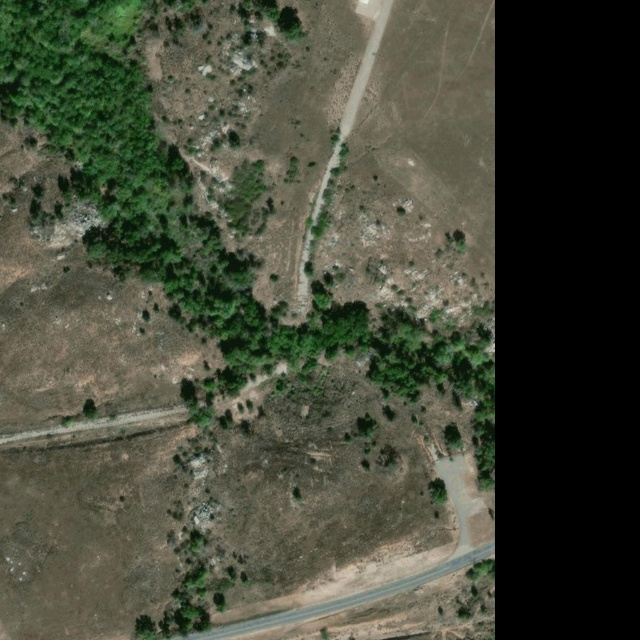vegetation: (0, 0, 501, 492), (132, 504, 254, 640), (454, 559, 495, 640)
